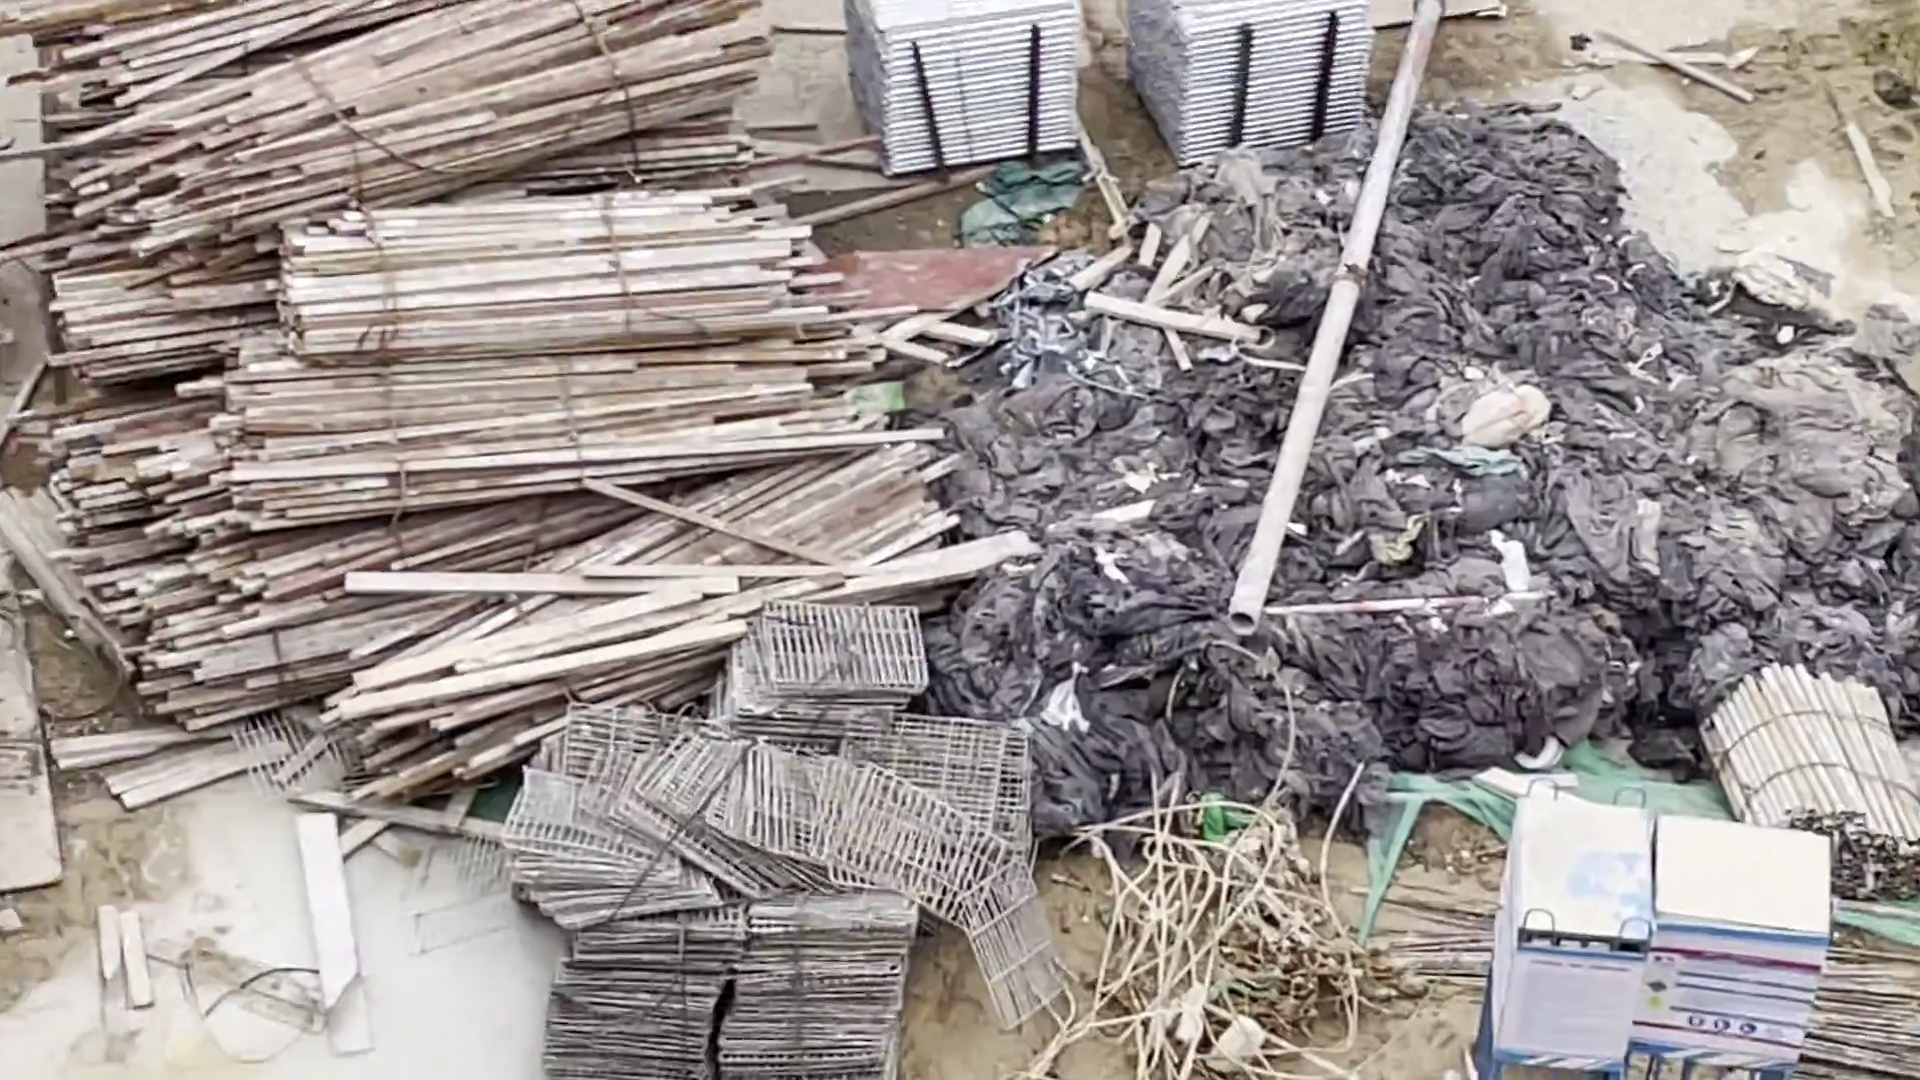scaffold: (825, 1, 1375, 193)
slogan: (1516, 930, 1828, 1080)
wood: (1, 3, 825, 731)
